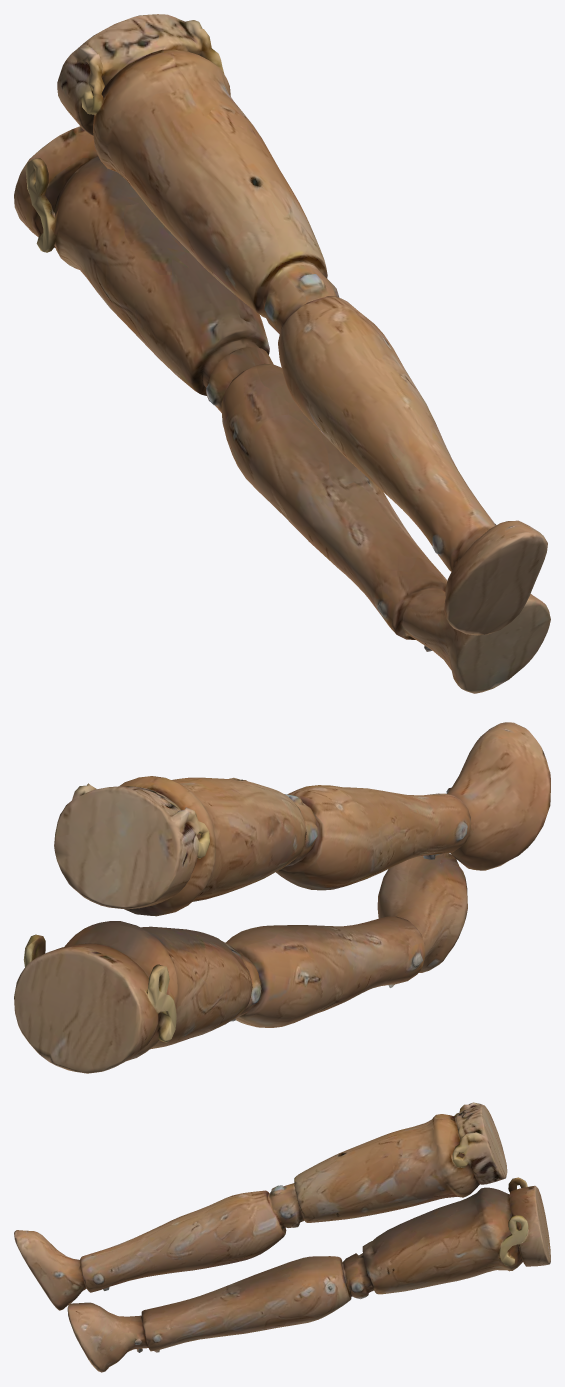
Rendered from st_mannequin.glb.
The picture shows the model from 3 angles, top to bottom: view 1: azimuth 30°, elevation 25°; view 2: azimuth 150°, elevation 25°; view 3: azimuth 270°, elevation 25°; orthographic projection. The views are drawn at different scales.
Visible parts, largest first — view 1: tripo_node_95063577-fa9e-4bc1-89ba-6961ba54efe3; view 2: tripo_node_95063577-fa9e-4bc1-89ba-6961ba54efe3; view 3: tripo_node_95063577-fa9e-4bc1-89ba-6961ba54efe3.
Part boxes in pixels (box(x1,y1,x2,y2)): tripo_node_95063577-fa9e-4bc1-89ba-6961ba54efe3: box(14, 14, 550, 693); tripo_node_95063577-fa9e-4bc1-89ba-6961ba54efe3: box(14, 722, 550, 1073); tripo_node_95063577-fa9e-4bc1-89ba-6961ba54efe3: box(14, 1102, 550, 1372).
Size of the model in its own units: 0.1759 by 0.5243 by 1.
Materials: 1 (1 with a texture image).
